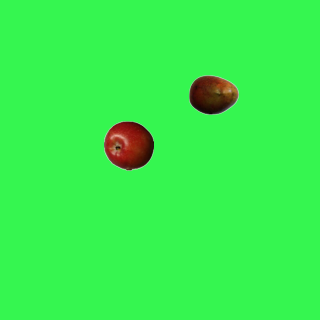Apple Braeburn: (103, 120, 153, 170)
Mango Red: (188, 69, 238, 119)
